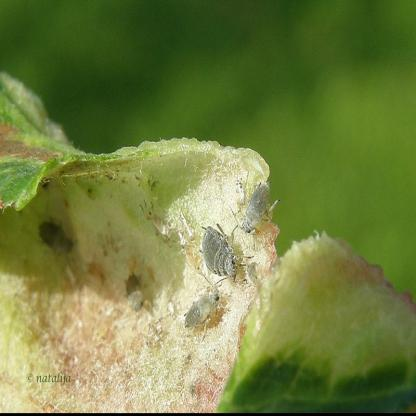aphid: (196, 214, 248, 289), (231, 174, 279, 248), (175, 282, 240, 335), (28, 207, 79, 263), (116, 268, 156, 316)
